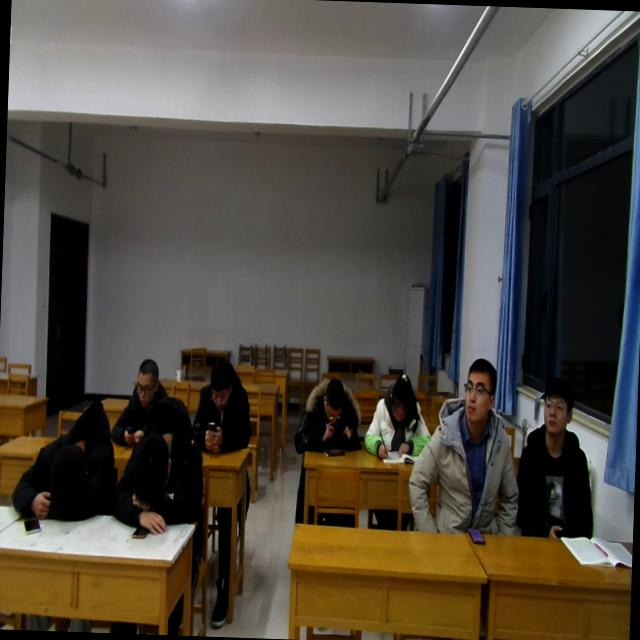bow: (8, 397, 122, 525), (114, 403, 208, 538)
down: (205, 356, 239, 412), (385, 370, 419, 424), (318, 374, 346, 426), (132, 352, 156, 410)
lookup: (534, 370, 576, 440), (458, 349, 498, 422)
sit: (409, 356, 527, 536), (516, 378, 596, 538), (362, 356, 438, 458), (291, 368, 367, 456), (192, 352, 255, 455), (109, 356, 179, 435)
